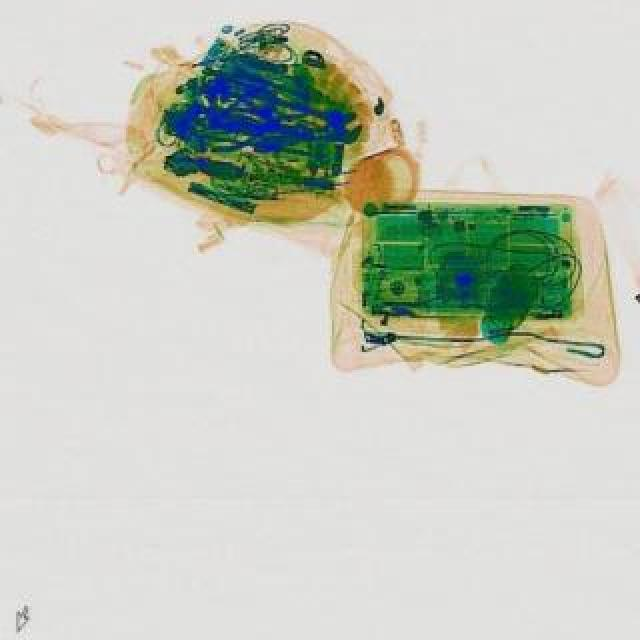scissors: (250, 106, 368, 170)
wrench: (208, 98, 302, 160)
